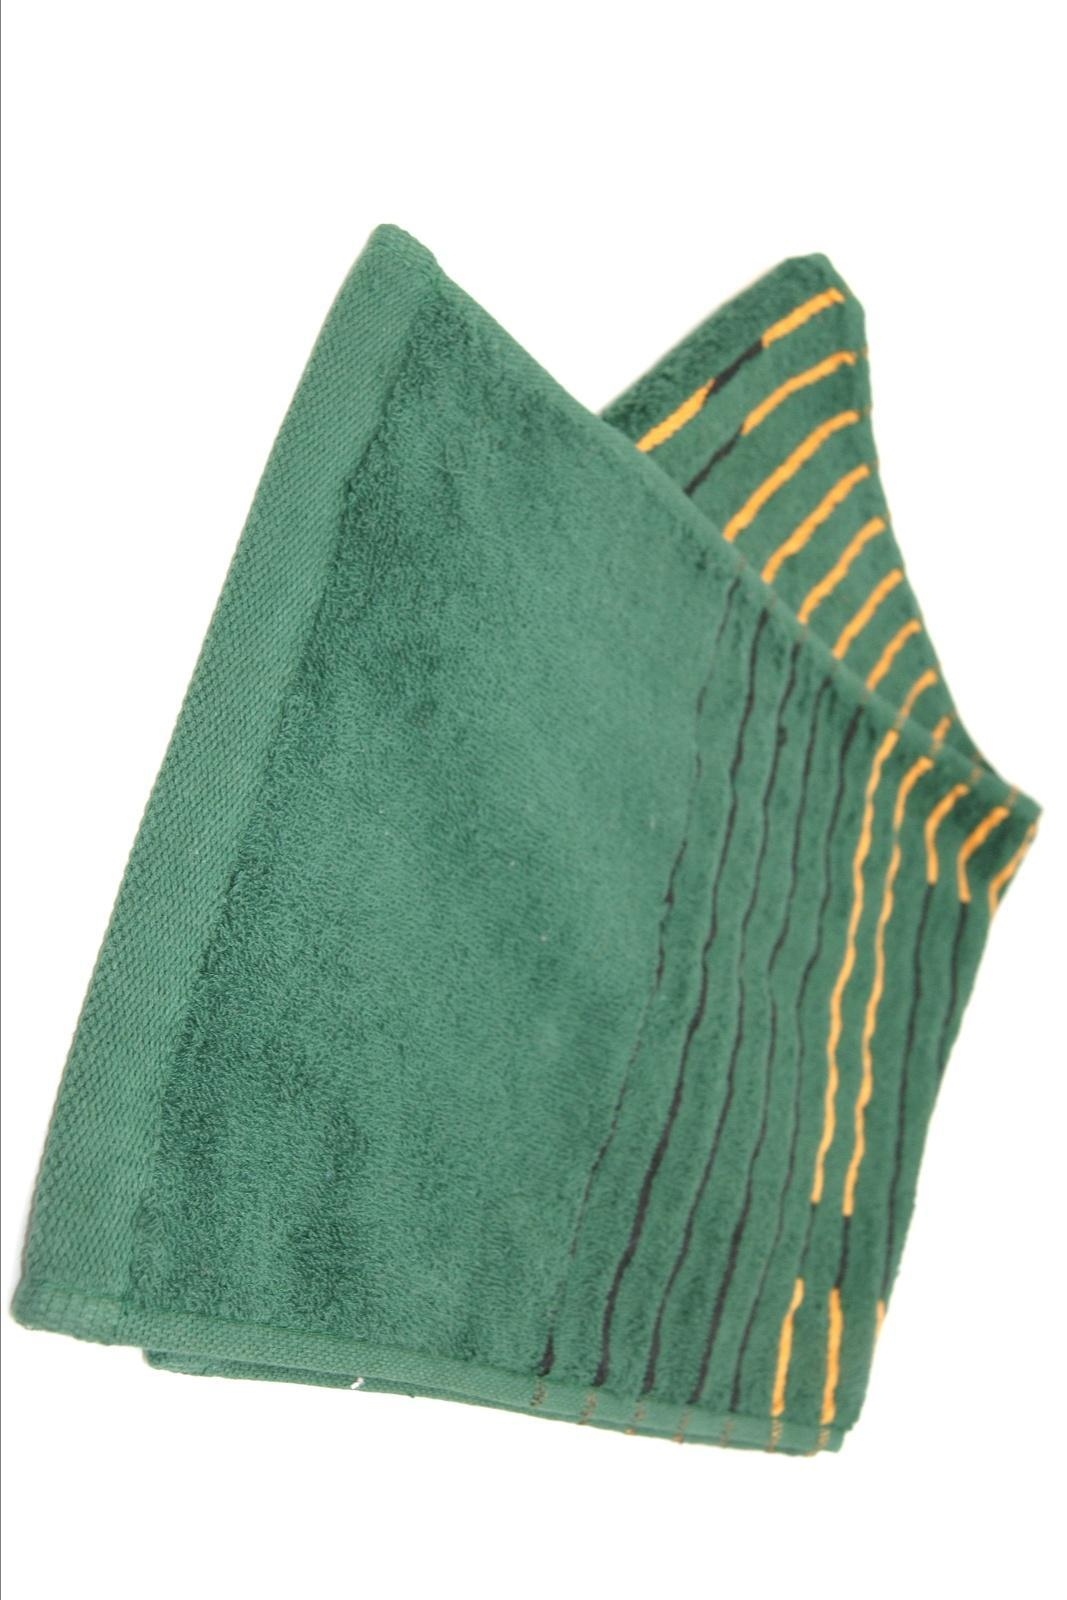towel: (30, 183, 1023, 1600)
